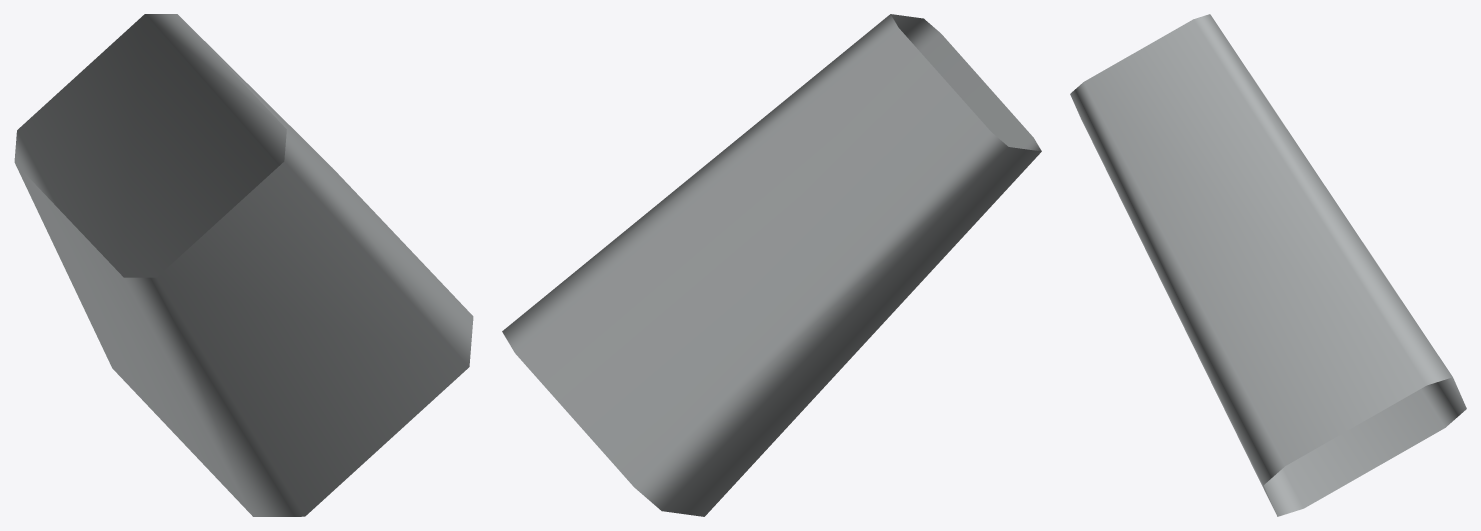
Rendered from Drone_002_L_Finger_002.fbx.
3 views of the same model, side by side, from view 1: azimuth 30°, elevation 25°; view 2: azimuth 150°, elevation 25°; view 3: azimuth 270°, elevation 25° (orthographic). The views are drawn at different scales.
Parts seen in each view (by area): view 1: Drone_002_L_Finger_002; view 2: Drone_002_L_Finger_002; view 3: Drone_002_L_Finger_002.
Boxes of the visible parts, x1,y1,x2,y2 form: Drone_002_L_Finger_002: (14, 14, 473, 516); Drone_002_L_Finger_002: (502, 14, 1041, 516); Drone_002_L_Finger_002: (1070, 14, 1466, 516).
Bounding box in the file's own units: 3.51 × 3.22 × 3.89.
